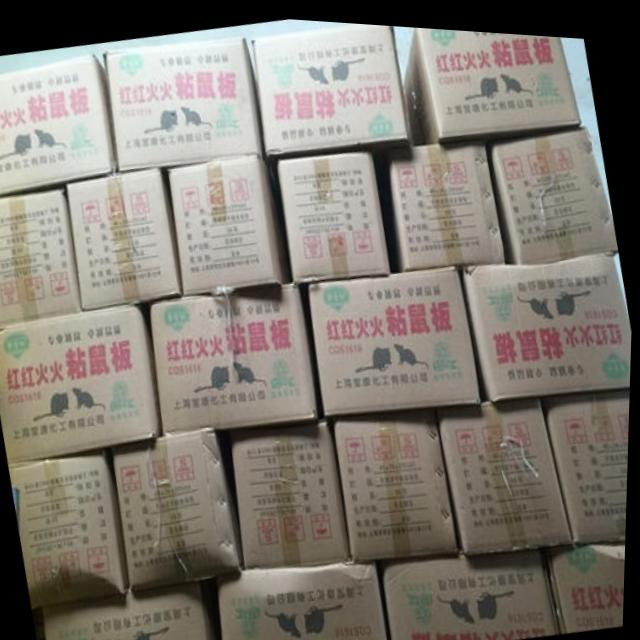box: (0, 297, 164, 464), (308, 262, 484, 414), (150, 281, 320, 433), (463, 246, 633, 395), (113, 424, 249, 590), (439, 389, 577, 548), (106, 35, 265, 170), (404, 22, 582, 140), (11, 448, 132, 616), (258, 19, 411, 151), (230, 414, 354, 566), (334, 409, 459, 558), (384, 537, 563, 640), (372, 134, 509, 266), (487, 118, 619, 253), (0, 54, 118, 197), (170, 150, 286, 295), (67, 165, 183, 308), (279, 144, 392, 279), (219, 558, 396, 640), (544, 378, 632, 535), (43, 572, 227, 640), (0, 183, 83, 326), (551, 531, 628, 622)
